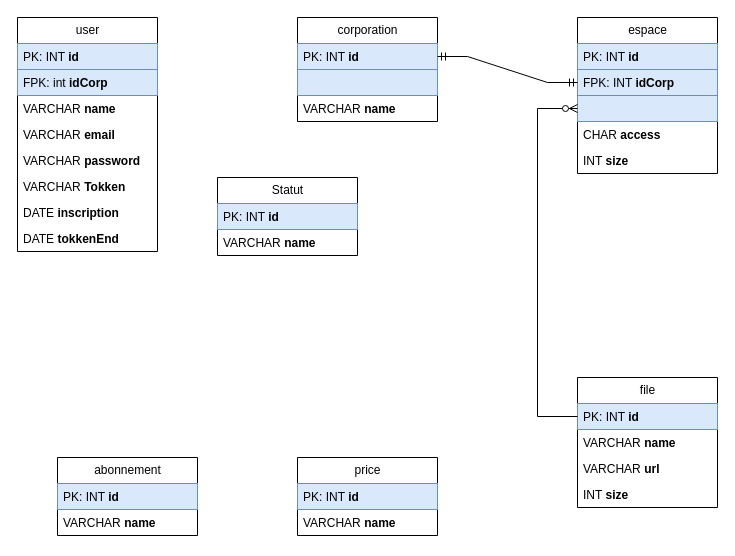
Some shapes in this 735 by 556 pixel diagram are drawn without their labels. Each missing label, with the centre of its shape:
FPK: INT idFile: [647,108]
FPK: INT idStatus: [367,82]
